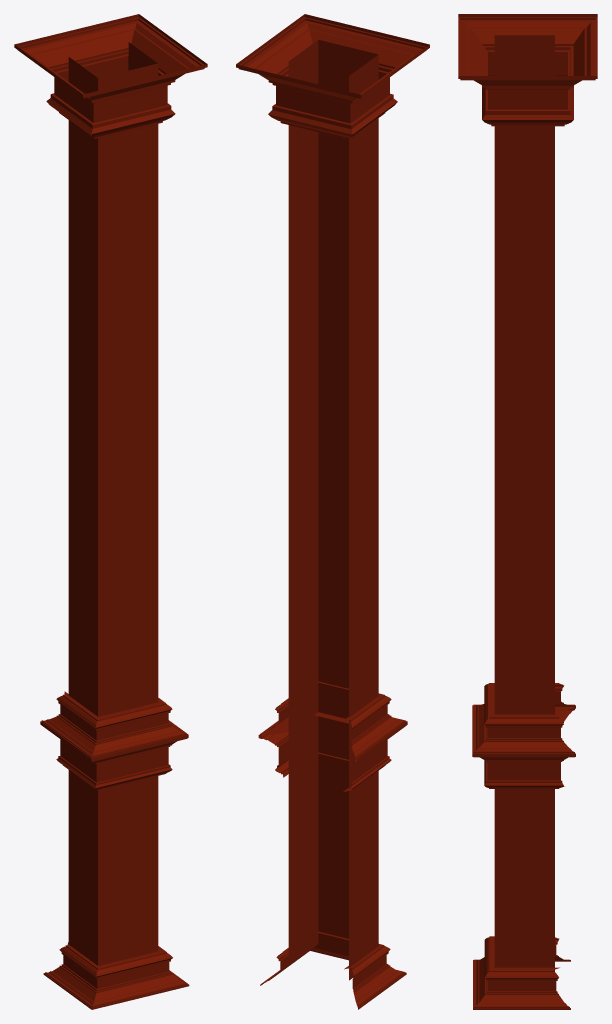
File: SM_WoodPillar01_Frame (1).fbx
The picture shows the model from 3 angles, left to right: view 1: azimuth 30°, elevation 25°; view 2: azimuth 150°, elevation 25°; view 3: azimuth 270°, elevation 25°; orthographic projection.
Parts seen in each view (by area): view 1: SM_WoodPillar01_Frame; view 2: SM_WoodPillar01_Frame; view 3: SM_WoodPillar01_Frame.
Part boxes in pixels (x1,y1,x2,y2): SM_WoodPillar01_Frame: [14, 14, 207, 1009]; SM_WoodPillar01_Frame: [236, 14, 429, 1009]; SM_WoodPillar01_Frame: [458, 14, 597, 1009].
Bounding box in the file's own units: 0.41 × 2.91 × 0.3901.
